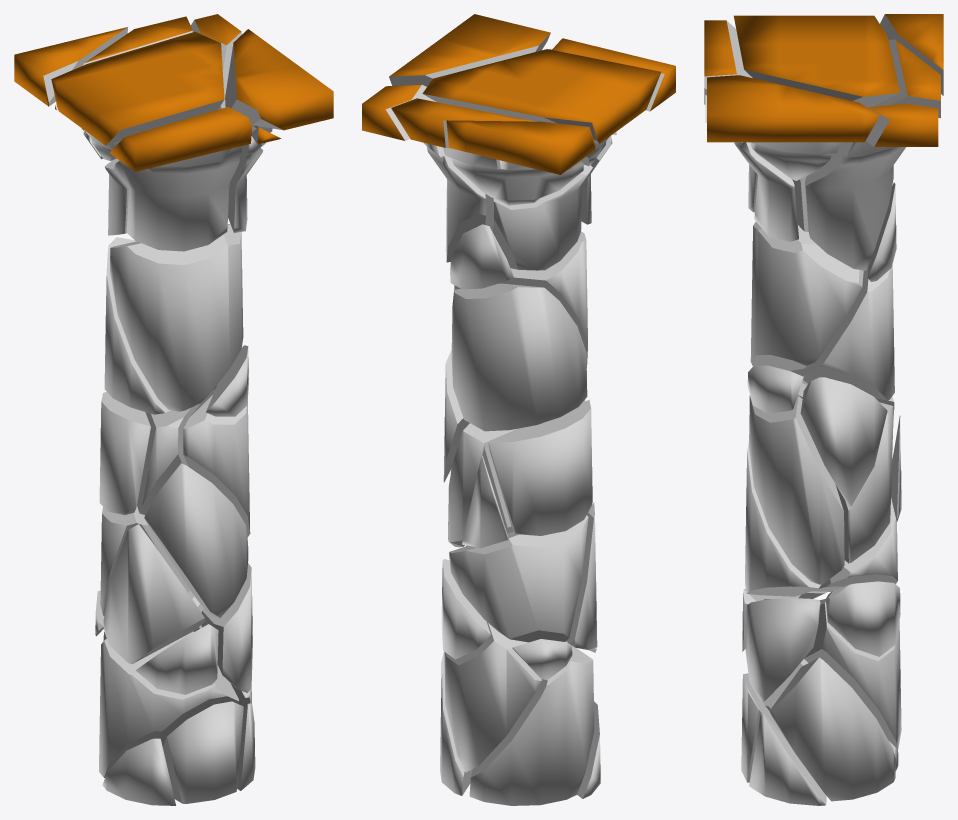
Rendered from FracturedColumn.fbx.
3 views of the same model, side by side, from view 1: azimuth 30°, elevation 25°; view 2: azimuth 150°, elevation 25°; view 3: azimuth 270°, elevation 25° (orthographic).
Parts seen in each view (by area): view 1: Column - Outside_shard, Column - Outside_shard.011, Column - Outside_shard.008, Column - Outside_shard.022, Column - Outside_shard.006, Column - Outside_shard.026, Column - Outside_shard.010, Column - Outside_shard.024, Column - Outside_shard.025, Column - Outside_shard.028, Column - Outside_shard.009, Column - Outside_shard.016 (+11 smaller); view 2: Column - Outside_shard.009, Column - Outside_shard.008, Column - Outside_shard.026, Column - Outside_shard.015, Column - Outside_shard.028, Column - Outside_shard.004, Column - Outside_shard.029, Column - Outside_shard.001, Column - Outside_shard.020, Column - Outside_shard.010, Column - Outside_shard.023, Column - Outside_shard.027 (+10 smaller); view 3: Column - Outside_shard, Column - Outside_shard.008, Column - Outside_shard.025, Column - Outside_shard.023, Column - Outside_shard.010, Column - Outside_shard.012, Column - Outside_shard.007, Column - Outside_shard.009, Column - Outside_shard.005, Column - Outside_shard.004, Column - Outside_shard.002, Column - Outside_shard.022 (+13 smaller).
Part boxes in pixels (x1,y1,x2,y2): Column - Outside_shard: (110, 224, 243, 411); Column - Outside_shard.011: (110, 107, 252, 251); Column - Outside_shard.008: (51, 31, 224, 160); Column - Outside_shard.022: (144, 463, 248, 617); Column - Outside_shard.006: (103, 524, 205, 664); Column - Outside_shard.026: (99, 631, 238, 777); Column - Outside_shard.010: (225, 29, 333, 145); Column - Outside_shard.024: (163, 701, 243, 803); Column - Outside_shard.025: (183, 389, 250, 537); Column - Outside_shard.028: (99, 391, 150, 515); Column - Outside_shard.009: (104, 237, 170, 414); Column - Outside_shard.016: (136, 624, 218, 694); Column - Outside_shard.009: (451, 283, 587, 431); Column - Outside_shard.008: (422, 49, 661, 165); Column - Outside_shard.026: (469, 641, 594, 805); Column - Outside_shard.015: (449, 515, 588, 642); Column - Outside_shard.028: (488, 399, 592, 535); Column - Outside_shard.004: (444, 622, 541, 772); Column - Outside_shard.029: (391, 98, 583, 205); Column - Outside_shard.001: (485, 164, 592, 270); Column - Outside_shard.020: (446, 120, 595, 174); Column - Outside_shard.010: (389, 14, 550, 86); Column - Outside_shard.023: (362, 84, 485, 262); Column - Outside_shard.027: (448, 400, 585, 542); Column - Outside_shard: (750, 222, 863, 370); Column - Outside_shard.008: (733, 15, 899, 107); Column - Outside_shard.025: (749, 395, 844, 584); Column - Outside_shard.023: (805, 103, 938, 270); Column - Outside_shard.010: (707, 75, 880, 180); Column - Outside_shard.012: (769, 657, 895, 801); Column - Outside_shard.007: (800, 377, 887, 507); Column - Outside_shard.009: (789, 264, 894, 400); Column - Outside_shard.005: (745, 598, 820, 701); Column - Outside_shard.004: (804, 599, 901, 749); Column - Outside_shard.002: (825, 581, 900, 656); Column - Outside_shard.022: (745, 442, 820, 596).
Bounding box in the file's own units: 289 × 953 × 292.
